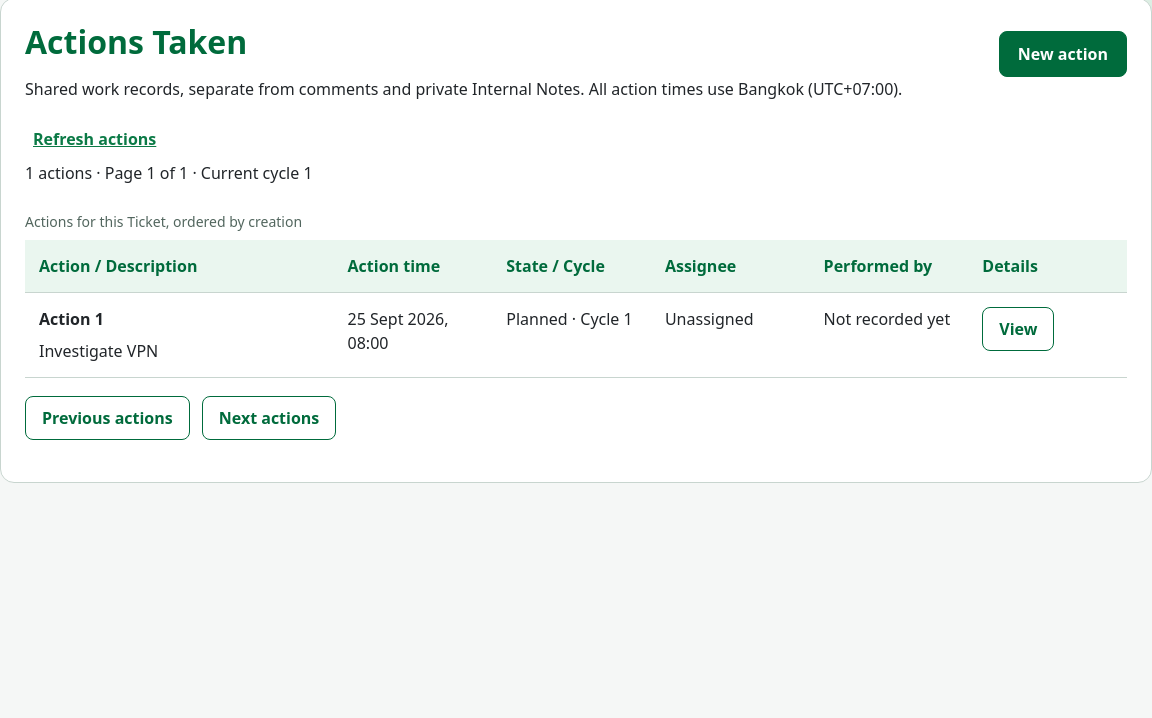
Test: Actions Taken › shows permitted progress controls in PLANNED view mode without opening the editor
Click the button with aria-label "View action 1": (1018, 329) [982,307,1054,351]
(page scrolled)
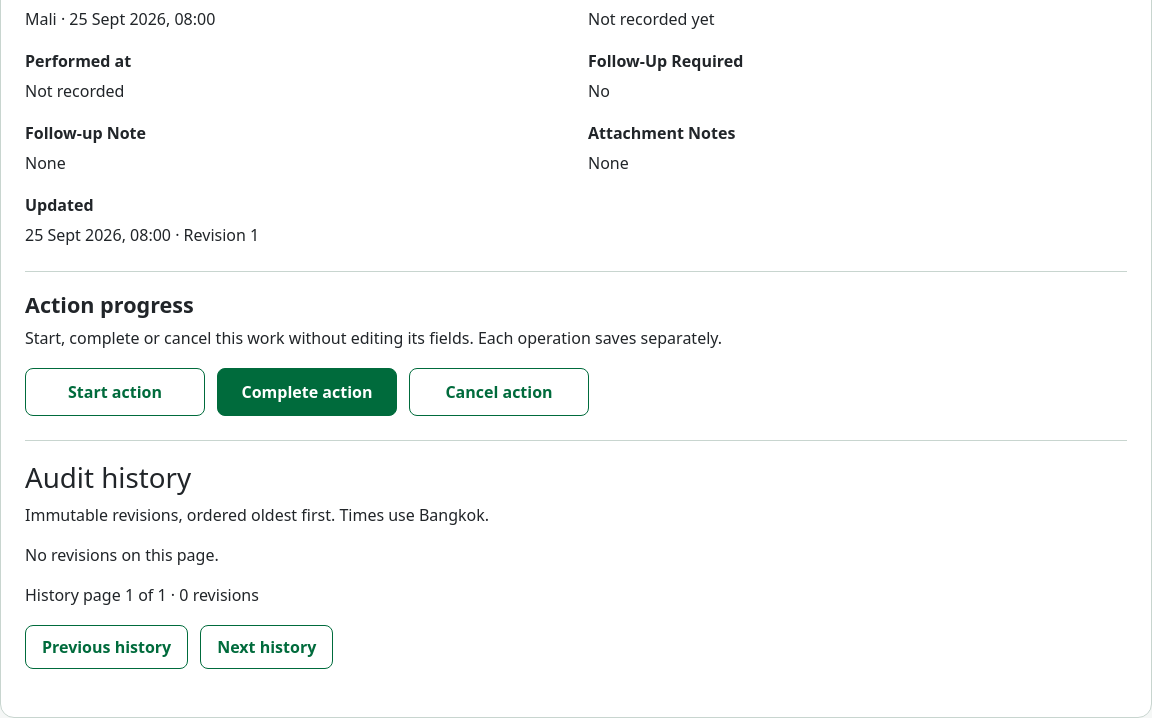
Now the element named "Action state controls" is shown, box [25,271,1127,416]
Now the button "Complete action" is enabled, box [217,368,397,416]
Now the button "Cancel action" is enabled, box [409,368,589,416]
